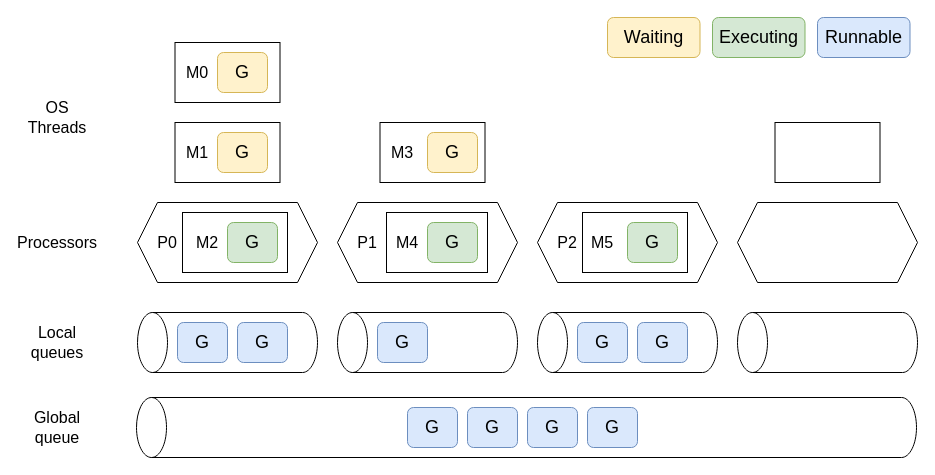
This 935x475 diagram has some shape labels left out. Each missing label, with the box of its shape:
M6: (774, 122, 880, 182)
P3: (736, 202, 918, 282)
